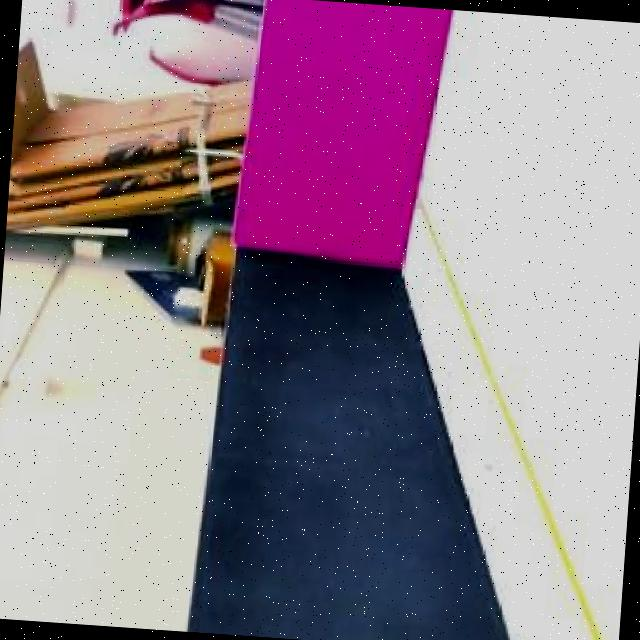xparking: (252, 0, 451, 260)
